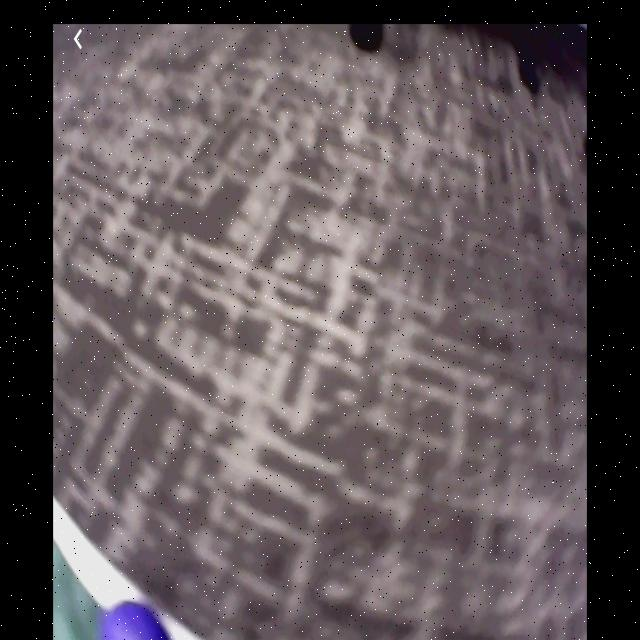ball: (95, 601, 169, 640)
